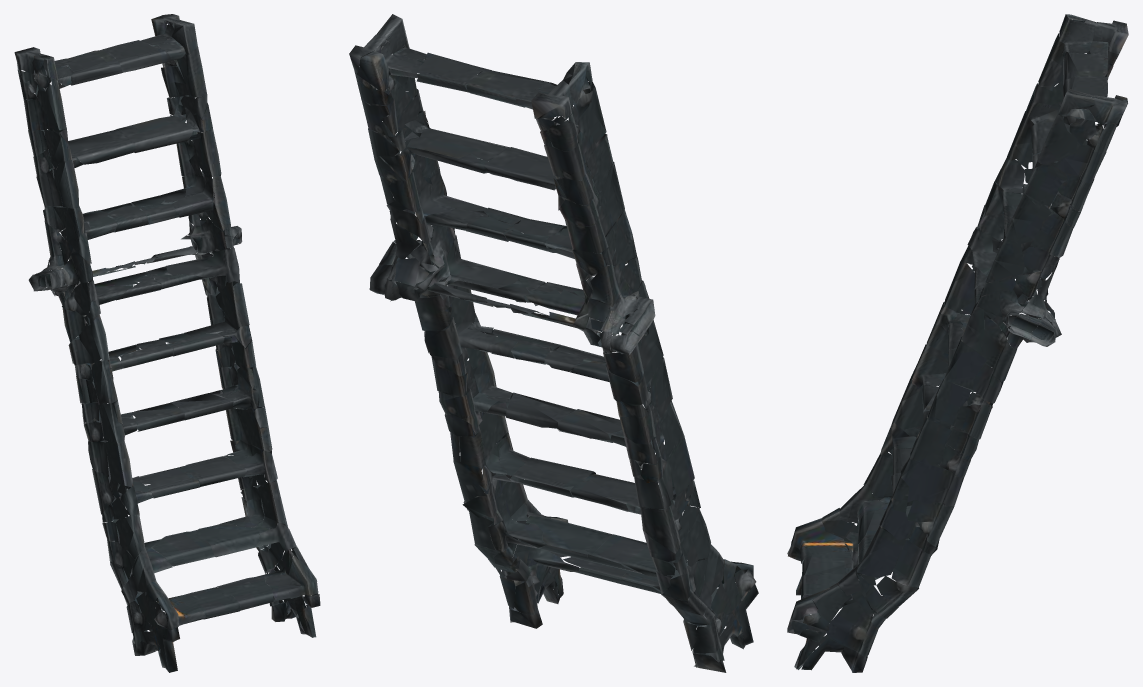
Rendered from ladder-meshy-low.glb.
3 renders of one model, left to right at view 1: azimuth 30°, elevation 25°; view 2: azimuth 150°, elevation 25°; view 3: azimuth 270°, elevation 25°, orthographic. The views are drawn at different scales.
Visible parts, largest first — view 1: Mesh_0.005; view 2: Mesh_0.005; view 3: Mesh_0.005.
Part boxes in pixels (x1,y1,x2,y2): Mesh_0.005: (14,14,320,672); Mesh_0.005: (349,14,758,672); Mesh_0.005: (787,14,1128,672).
Bounding box in the file's own units: 0.7288 × 1.9 × 1.02.
1 material, 1 textured.
